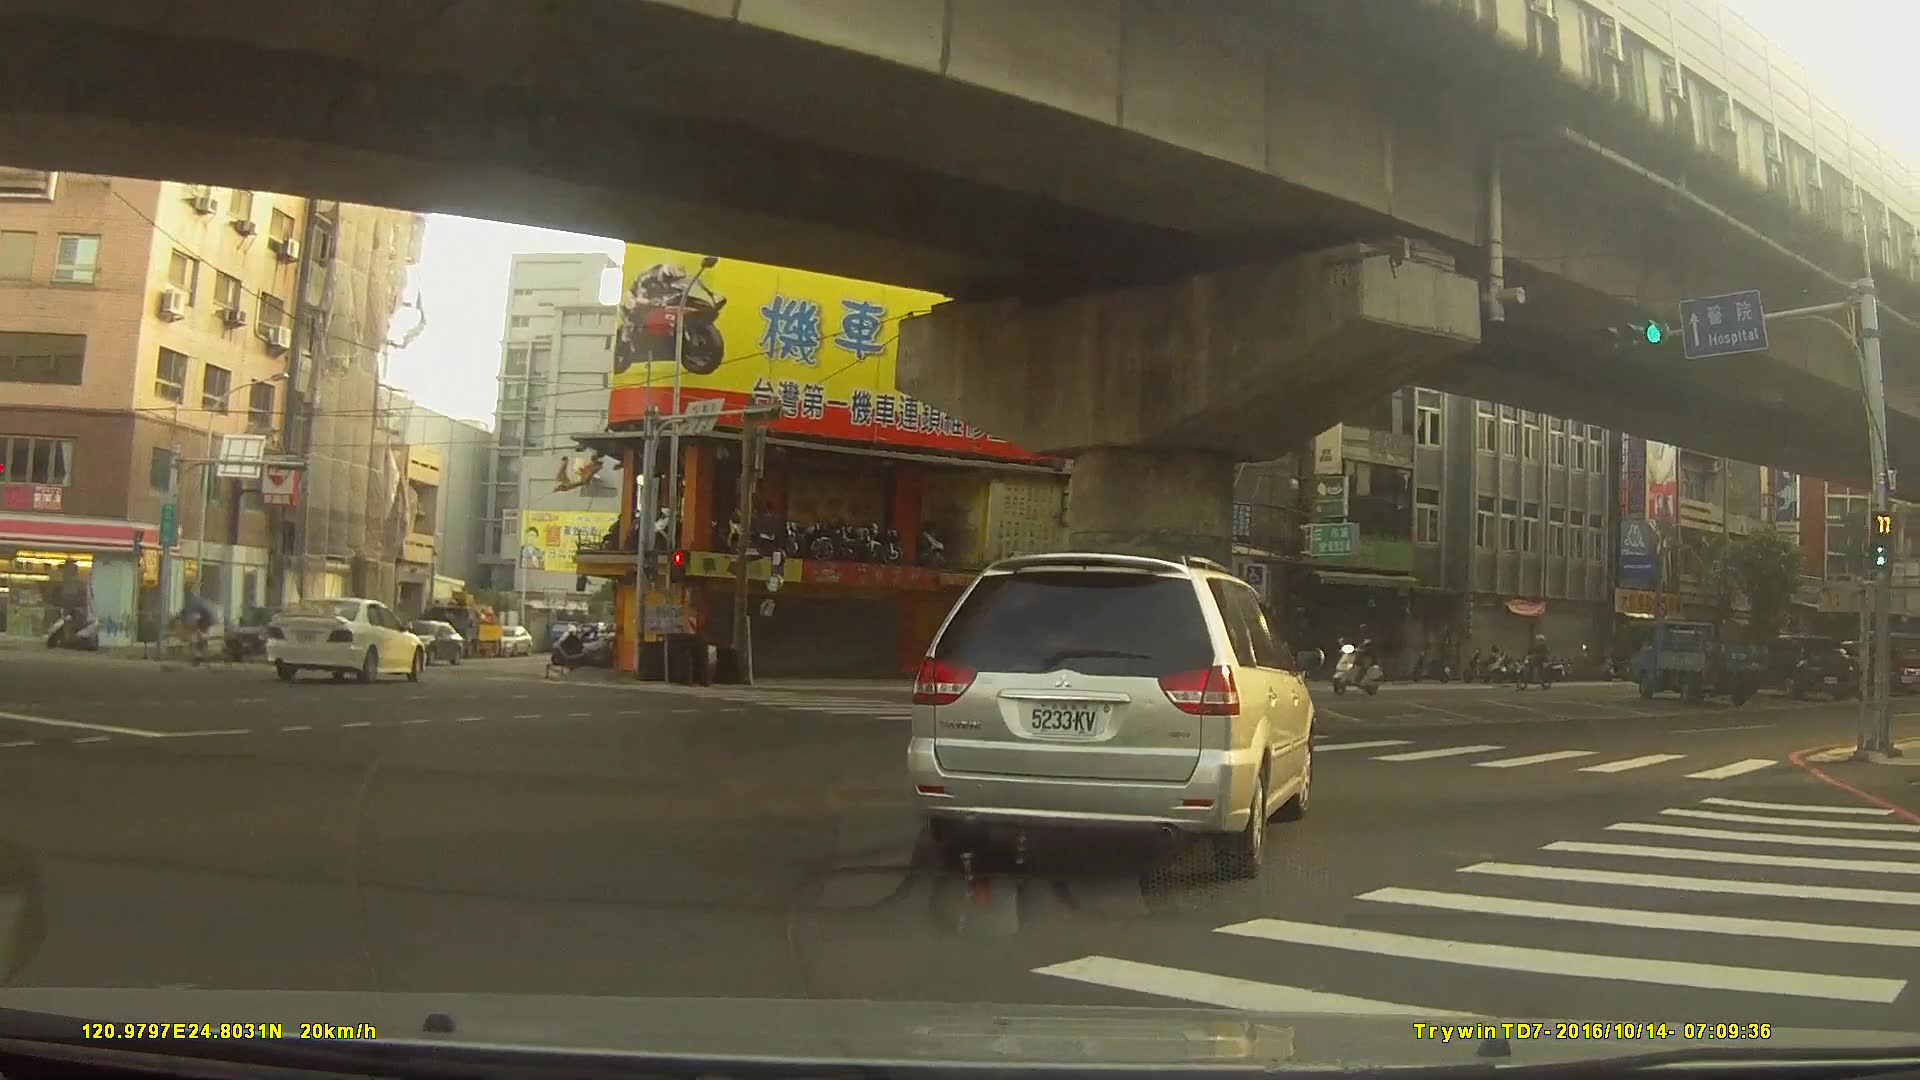rider: (153, 579, 235, 675), (1331, 621, 1384, 694), (1510, 633, 1563, 689)
vehicle: (902, 548, 1315, 869), (265, 595, 427, 683), (1627, 616, 1767, 703), (1744, 632, 1856, 698), (228, 601, 316, 662), (390, 619, 464, 664), (490, 626, 530, 657)
